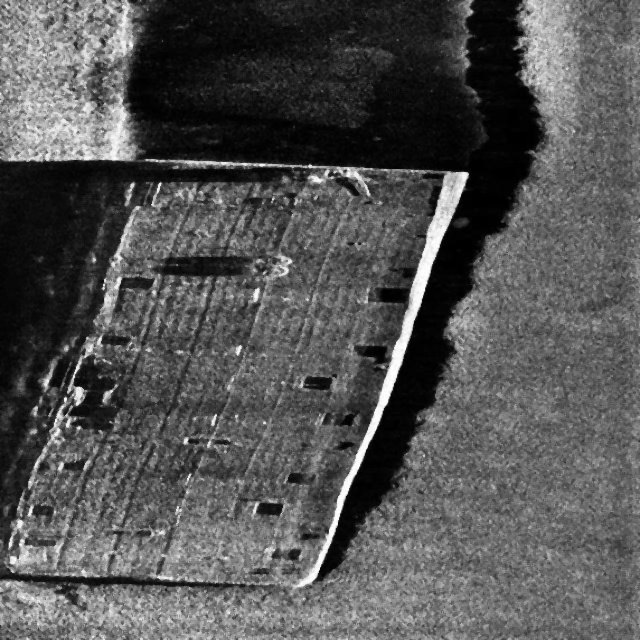Ship: (0, 145, 485, 598)
